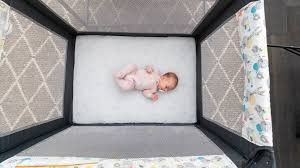baby: (115, 64, 177, 100)
crib: (0, 0, 275, 167)
